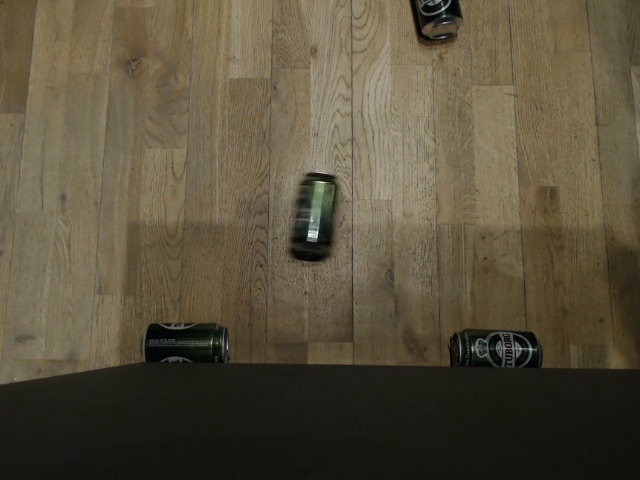beer: (290, 171, 337, 260)
